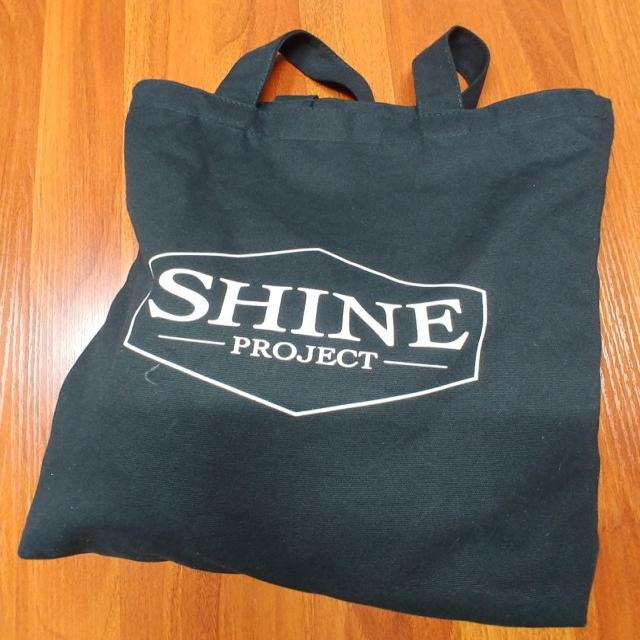ecobag: (35, 32, 630, 629)
